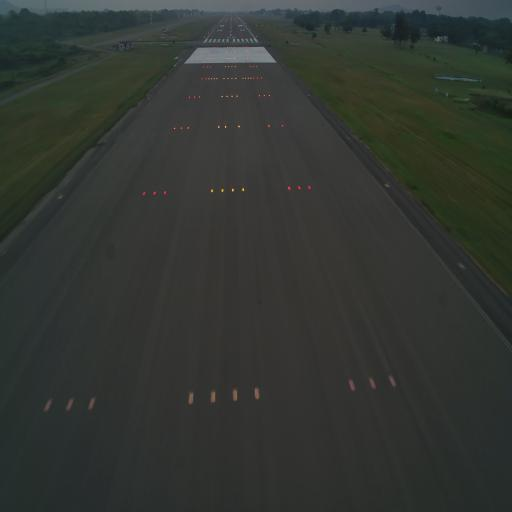off: (454, 256, 468, 272), (382, 180, 392, 193), (57, 189, 65, 201)
on: (84, 390, 98, 414), (64, 390, 75, 417), (386, 371, 401, 390), (365, 374, 379, 393), (206, 386, 218, 408), (186, 384, 196, 410), (230, 384, 241, 407), (42, 397, 54, 413), (252, 384, 262, 403), (346, 374, 356, 393), (151, 187, 159, 198), (304, 183, 312, 193), (139, 189, 148, 197), (208, 186, 214, 198), (286, 184, 292, 194), (240, 184, 246, 193), (161, 190, 167, 198), (230, 187, 235, 196), (296, 184, 301, 193), (220, 186, 224, 196)
